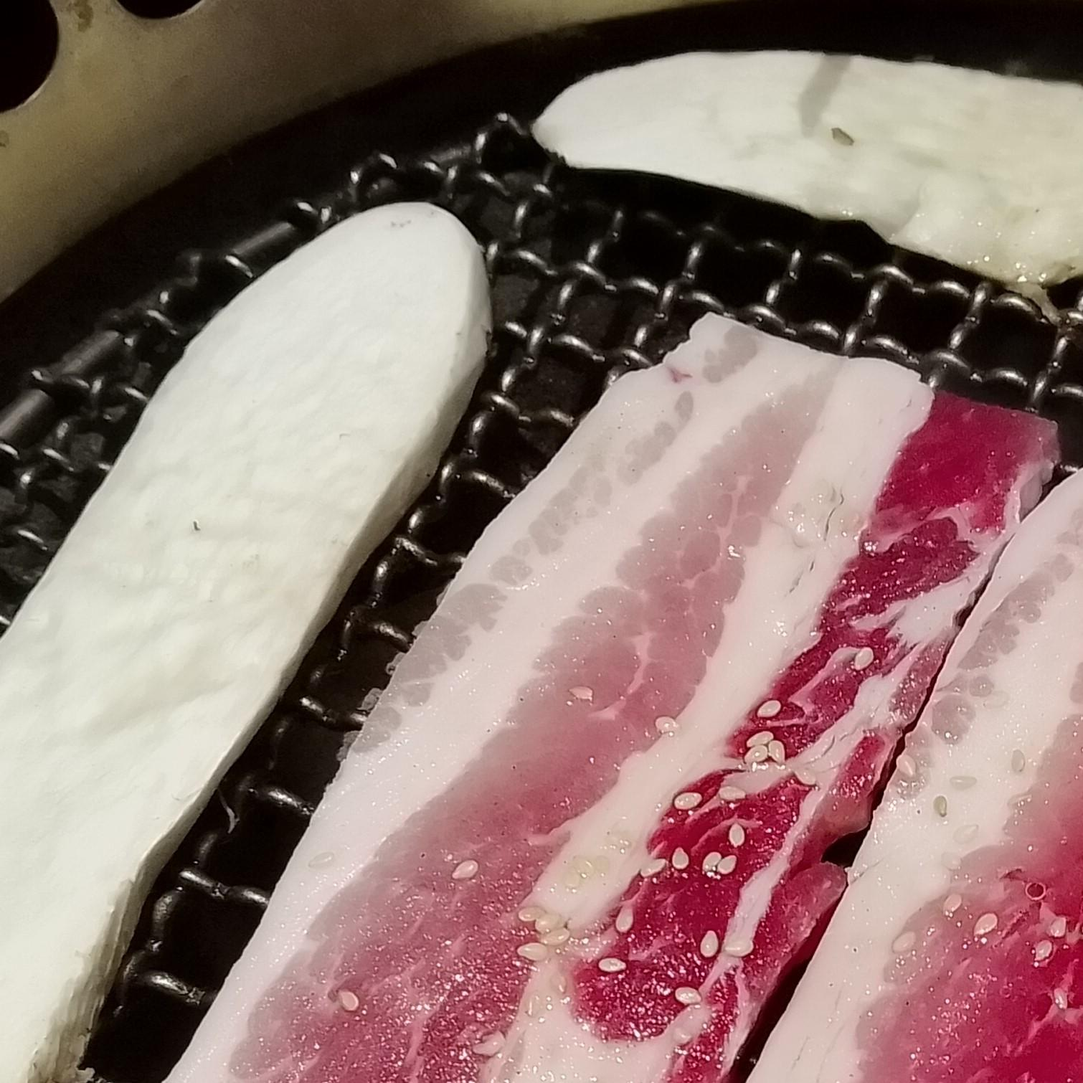Undercooked: (168, 315, 1056, 1082), (747, 473, 1082, 1082)
